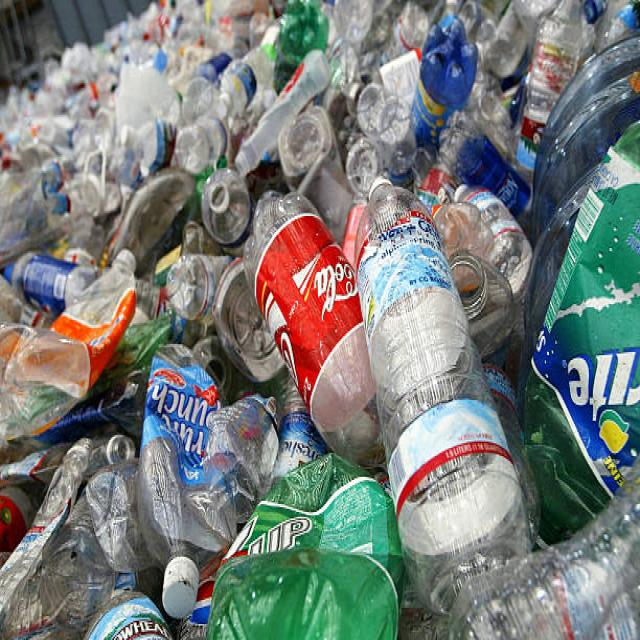plastic: (6, 80, 632, 632)
